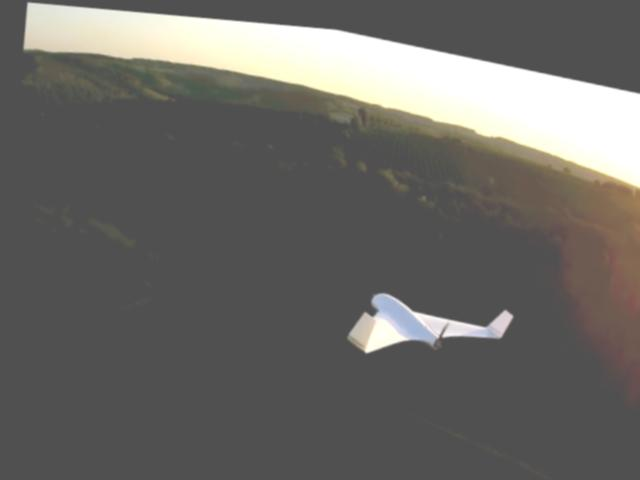plane: (342, 269, 514, 372)
